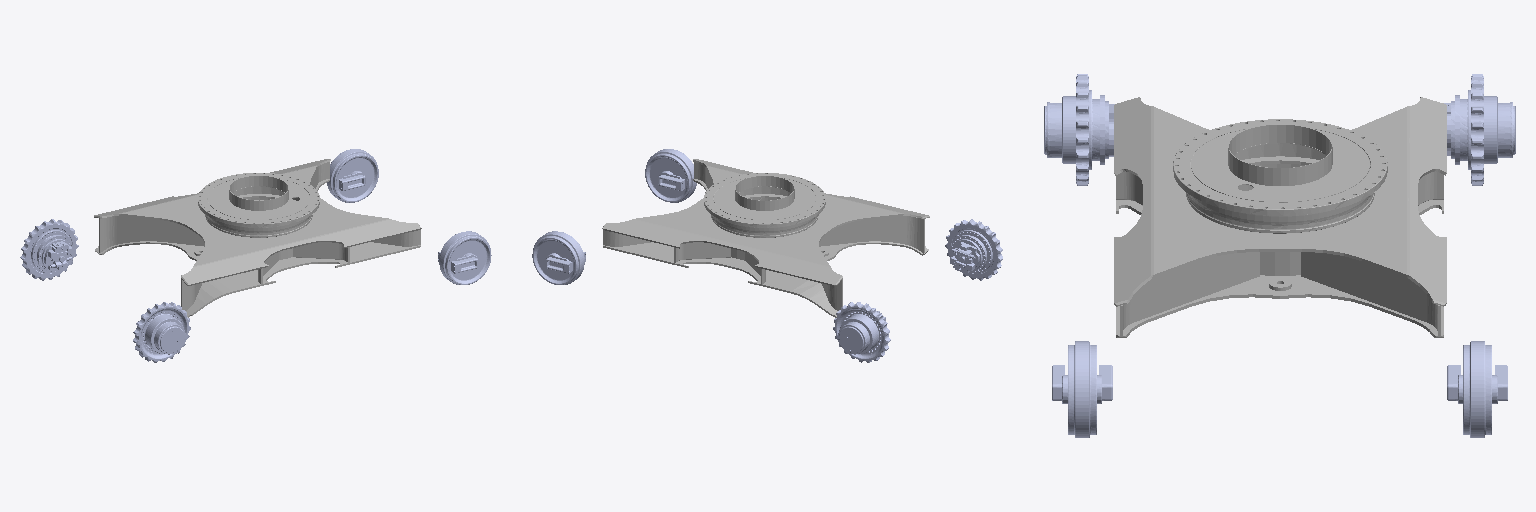
robot.urdf — track_vehicle_me:
<?xml version="1.0" encoding="utf-8"?>
<!-- This URDF was automatically created by SolidWorks to URDF Exporter! Originally created by [author] ([email redacted]) 
     Commit Version: 1.6.0-4-g7f85cfe  Build Version: 1.6.7995.38578
     For more information, please see http://wiki.ros.org/sw_urdf_exporter -->
<robot
  name="track_vehicle_me">
  <link
    name="base_link">
    <inertial>
      <origin
        xyz="-0.0395304856346712 -0.0020991435003859 -0.105253074187938"
        rpy="0 0 0" />
      <mass
        value="5232.08713753638" />
      <inertia
        ixx="860.499554229363"
        ixy="-0.0624601253354951"
        ixz="-6.60863896386718"
        iyy="1783.18191327492"
        iyz="-0.00214289259115599"
        izz="2561.87014017891" />
    </inertial>
    <visual>
      <origin
        xyz="0 0 0"
        rpy="0 0 0" />
      <geometry>
        <mesh
          filename="package://track_vehicle_me/meshes/base_link.STL" />
      </geometry>
      <material
        name="">
        <color
          rgba="0.752941176470588 0.752941176470588 0.752941176470588 1" />
      </material>
    </visual>
    <collision>
      <origin
        xyz="0 0 0"
        rpy="0 0 0" />
      <geometry>
        <mesh
          filename="package://track_vehicle_me/meshes/base_link.STL" />
      </geometry>
    </collision>
  </link>
  <link
    name="rotaton_link">
    <inertial>
      <origin
        xyz="0.0394493776508018 -0.12215452665298 0.045409515026938"
        rpy="0 0 0" />
      <mass
        value="695.743973991041" />
      <inertia
        ixx="121.26886662093"
        ixy="0.0623516837333002"
        ixz="-0.0280872260764976"
        iyy="121.378083370609"
        iyz="0.0128430343309495"
        izz="240.133841993854" />
    </inertial>
    <visual>
      <origin
        xyz="0 0 0"
        rpy="0 0 0" />
      <geometry>
        <mesh
          filename="package://track_vehicle_me/meshes/rotaton_link.STL" />
      </geometry>
      <material
        name="">
        <color
          rgba="0.792156862745098 0.819607843137255 0.933333333333333 1" />
      </material>
    </visual>
    <collision>
      <origin
        xyz="0 0 0"
        rpy="0 0 0" />
      <geometry>
        <mesh
          filename="package://track_vehicle_me/meshes/rotaton_link.STL" />
      </geometry>
    </collision>
  </link>
  <joint
    name="rotation_joint"
    type="continuous">
    <origin
      xyz="-0.0107602695123072 -0.00277733519954498 0.514920307000783"
      rpy="0 0 0" />
    <parent
      link="base_link" />
    <child
      link="rotaton_link" />
    <axis
      xyz="0.0208920959377744 0.0053924628350513 -0.999767193736572" />
  </joint>
  <link
    name="drive_wheel_left_link">
    <inertial>
      <origin
        xyz="-0.00030180607445951 -0.0132072972716393 0.00268216619965811"
        rpy="0 0 0" />
      <mass
        value="478.737512663895" />
      <inertia
        ixx="17.6493056426602"
        ixy="-0.0286679827787652"
        ixz="-0.0184222709804727"
        iyy="19.4861867688466"
        iyz="0.276961980461684"
        izz="17.5750012522551" />
    </inertial>
    <visual>
      <origin
        xyz="0 0 0"
        rpy="0 0 0" />
      <geometry>
        <mesh
          filename="package://track_vehicle_me/meshes/drive_wheel_left_link.STL" />
      </geometry>
      <material
        name="">
        <color
          rgba="0.792156862745098 0.819607843137255 0.933333333333333 1" />
      </material>
    </visual>
    <collision>
      <origin
        xyz="0 0 0"
        rpy="0 0 0" />
      <geometry>
        <mesh
          filename="package://track_vehicle_me/meshes/drive_wheel_left_link.STL" />
      </geometry>
    </collision>
  </link>
  <joint
    name="drive_wheel_left_joint"
    type="continuous">
    <origin
      xyz="-2.0343615152109 1.28472266480048 -0.168571113255744"
      rpy="0 0 0" />
    <parent
      link="base_link" />
    <child
      link="drive_wheel_left_link" />
    <axis
      xyz="0 1 0" />
  </joint>
  <link
    name="drive_wheel_right_link">
    <inertial>
      <origin
        xyz="8.55976120872626E-05 0.0132072936791885 -0.00269773521597977"
        rpy="0 0 0" />
      <mass
        value="478.737501957883" />
      <inertia
        ixx="17.6425556064391"
        ixy="-0.0113097316769887"
        ixz="0.0282020883138342"
        iyy="19.4861866965212"
        iyz="0.278211924024898"
        izz="17.5817506549528" />
    </inertial>
    <visual>
      <origin
        xyz="0 0 0"
        rpy="0 0 0" />
      <geometry>
        <mesh
          filename="package://track_vehicle_me/meshes/drive_wheel_right_link.STL" />
      </geometry>
      <material
        name="">
        <color
          rgba="0.792156862745098 0.819607843137255 0.933333333333333 1" />
      </material>
    </visual>
    <collision>
      <origin
        xyz="0 0 0"
        rpy="0 0 0" />
      <geometry>
        <mesh
          filename="package://track_vehicle_me/meshes/drive_wheel_right_link.STL" />
      </geometry>
    </collision>
  </link>
  <joint
    name="drive_wheel_right_joint"
    type="continuous">
    <origin
      xyz="-2.03436151521091 -1.29027733519955 -0.168571113255744"
      rpy="0 0 0" />
    <parent
      link="base_link" />
    <child
      link="drive_wheel_right_link" />
    <axis
      xyz="0 1 0" />
  </joint>
  <link
    name="guide_wheel_right_link">
    <inertial>
      <origin
        xyz="-0.022044585259317 0.0640015794619382 -2.86351405920371E-07"
        rpy="0 0 0" />
      <mass
        value="195.408530066398" />
      <inertia
        ixx="6.3218989313616"
        ixy="-1.76479470702146E-05"
        ixz="3.204525463584E-06"
        iyy="10.2199381314209"
        iyz="-1.10021997284633E-05"
        izz="6.9655350058442" />
    </inertial>
    <visual>
      <origin
        xyz="0 0 0"
        rpy="0 0 0" />
      <geometry>
        <mesh
          filename="package://track_vehicle_me/meshes/guide_wheel_right_link.STL" />
      </geometry>
      <material
        name="">
        <color
          rgba="0.792156862745098 0.819607843137255 0.933333333333333 1" />
      </material>
    </visual>
    <collision>
      <origin
        xyz="0 0 0"
        rpy="0 0 0" />
      <geometry>
        <mesh
          filename="package://track_vehicle_me/meshes/guide_wheel_right_link.STL" />
      </geometry>
    </collision>
  </link>
  <joint
    name="guide_wheel_right_joint"
    type="continuous">
    <origin
      xyz="1.99063848478909 -1.36177733519954 -0.168571113255749"
      rpy="0 0 0" />
    <parent
      link="base_link" />
    <child
      link="guide_wheel_right_link" />
    <axis
      xyz="0 1 0" />
  </joint>
  <link
    name="guide_wheel_left_link">
    <inertial>
      <origin
        xyz="-0.0220445856176324 -0.0639984200835373 -2.86672215410455E-07"
        rpy="0 0 0" />
      <mass
        value="195.408529731427" />
      <inertia
        ixx="6.32189890777276"
        ixy="-1.76611623955283E-05"
        ixz="3.20933921306253E-06"
        iyy="10.2199381218627"
        iyz="-1.10134723591662E-05"
        izz="6.96553497912421" />
    </inertial>
    <visual>
      <origin
        xyz="0 0 0"
        rpy="0 0 0" />
      <geometry>
        <mesh
          filename="package://track_vehicle_me/meshes/guide_wheel_left_link.STL" />
      </geometry>
      <material
        name="">
        <color
          rgba="0.792156862745098 0.819607843137255 0.933333333333333 1" />
      </material>
    </visual>
    <collision>
      <origin
        xyz="0 0 0"
        rpy="0 0 0" />
      <geometry>
        <mesh
          filename="package://track_vehicle_me/meshes/guide_wheel_left_link.STL" />
      </geometry>
    </collision>
  </link>
  <joint
    name="guide_wheel_left_joint"
    type="continuous">
    <origin
      xyz="1.99063848478909 1.35622266480046 -0.168571113255745"
      rpy="0 0 0" />
    <parent
      link="base_link" />
    <child
      link="guide_wheel_left_link" />
    <axis
      xyz="0 1 0" />
  </joint>
</robot>

--- Render facts (derived) ---
Views: 3 orthographic renders of the robot side by side, from view 1: azimuth 30°, elevation 25°; view 2: azimuth 150°, elevation 25°; view 3: azimuth 270°, elevation 25°.
Model track_vehicle_me with 6 links and 5 joints (5 continuous), rooted at base_link, posed every joint at zero.
Visible links, largest first — view 1: base_link, drive_wheel_left_link, drive_wheel_right_link, guide_wheel_right_link, guide_wheel_left_link; view 2: base_link, drive_wheel_right_link, drive_wheel_left_link, guide_wheel_left_link, guide_wheel_right_link; view 3: base_link, drive_wheel_right_link, drive_wheel_left_link, guide_wheel_right_link, guide_wheel_left_link.
Boxes of the visible links, <box> form: base_link: <box>94,159,421,317</box>; drive_wheel_left_link: <box>20,219,78,280</box>; drive_wheel_right_link: <box>133,302,190,362</box>; guide_wheel_right_link: <box>438,231,491,284</box>; guide_wheel_left_link: <box>327,149,378,202</box>; base_link: <box>602,159,929,317</box>; drive_wheel_right_link: <box>945,219,1002,280</box>; drive_wheel_left_link: <box>833,302,890,362</box>; guide_wheel_left_link: <box>532,231,585,284</box>; guide_wheel_right_link: <box>645,149,696,202</box>; base_link: <box>1114,97,1446,337</box>; drive_wheel_right_link: <box>1044,74,1114,185</box>; drive_wheel_left_link: <box>1444,74,1515,185</box>; guide_wheel_right_link: <box>1052,341,1112,437</box>; guide_wheel_left_link: <box>1447,341,1507,437</box>.
Bounding box of the posed robot: 4.71 × 3.09 × 1.2 m (x, y, z).
5 mesh visuals loaded from 6 distinct referenced files (5 binary STL); not drawn: 1 (reference not matched to a file when rendering).